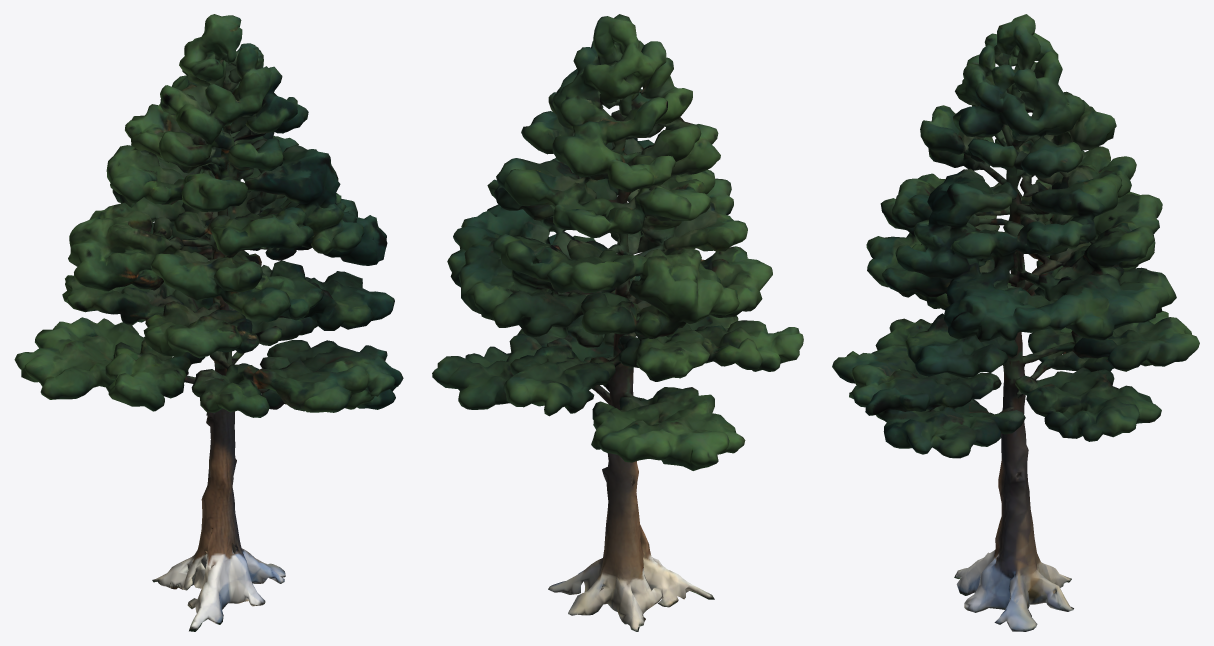
File: AI_AsymmetricalPineTree.fbx
The picture shows the model from 3 angles, left to right: view 1: azimuth 30°, elevation 25°; view 2: azimuth 150°, elevation 25°; view 3: azimuth 270°, elevation 25°; orthographic projection. The views are drawn at different scales.
Visible parts, largest first — view 1: Mesh_0; view 2: Mesh_0; view 3: Mesh_0.
Boxes of the visible parts, x1=… form: Mesh_0: x1=14, y1=14, x2=403, y2=631; Mesh_0: x1=432, y1=14, x2=803, y2=631; Mesh_0: x1=832, y1=14, x2=1199, y2=631.
Size of the model in its own units: 107 by 203 by 114.
1 material, 1 textured.
